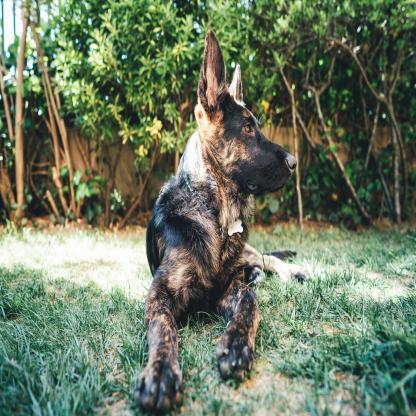dog: (139, 36, 297, 416)
